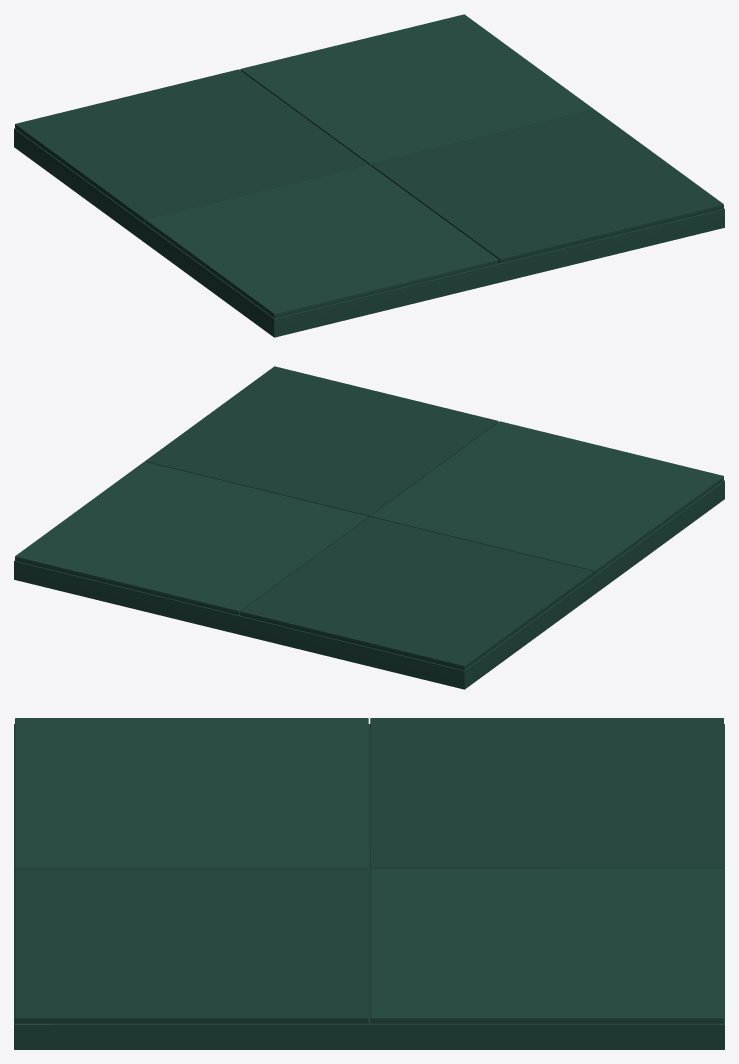
The model's file is GJH_COR_001.glb.
3 renders of one model, top to bottom at view 1: azimuth 30°, elevation 25°; view 2: azimuth 150°, elevation 25°; view 3: azimuth 270°, elevation 25°, orthographic. The views are drawn at different scales.
Visible parts, largest first — view 1: GJH-COR-001_visual; view 2: GJH-COR-001_visual; view 3: GJH-COR-001_visual.
Part boxes in pixels (bbox=[...]): GJH-COR-001_visual: bbox=[14, 14, 724, 337]; GJH-COR-001_visual: bbox=[14, 366, 724, 689]; GJH-COR-001_visual: bbox=[14, 718, 724, 1049].
Size of the model in its own units: 4 by 0.2 by 4.
